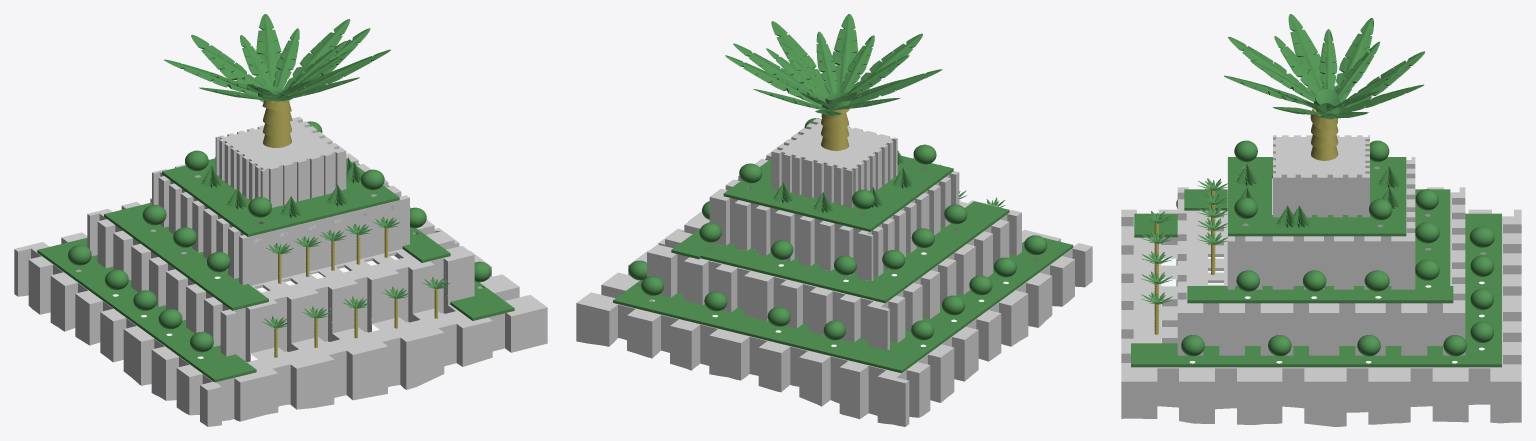
File: jardins-de-babylone.glb
3 views of the same model, side by side, from view 1: azimuth 30°, elevation 25°; view 2: azimuth 150°, elevation 25°; view 3: azimuth 270°, elevation 25° (orthographic). The views are drawn at different scales.
Parts seen in each view (by area): view 1: Object_7, Object_8, Object_14; view 2: Object_7, Object_8, Object_14; view 3: Object_7, Object_8, Object_14.
Part boxes in pixels (left/top/right/bottom): Object_7: left=14, top=116, right=547, bottom=426; Object_8: left=37, top=14, right=514, bottom=382; Object_14: left=262, top=100, right=438, bottom=357; Object_7: left=576, top=118, right=1092, bottom=426; Object_8: left=613, top=14, right=1073, bottom=373; Object_14: left=821, top=109, right=849, bottom=150; Object_7: left=1121, top=135, right=1521, bottom=426; Object_8: left=1131, top=14, right=1501, bottom=367; Object_14: left=1154, top=108, right=1338, bottom=334.
Bounding box in the file's own units: 1 × 0.7784 × 0.9846.
